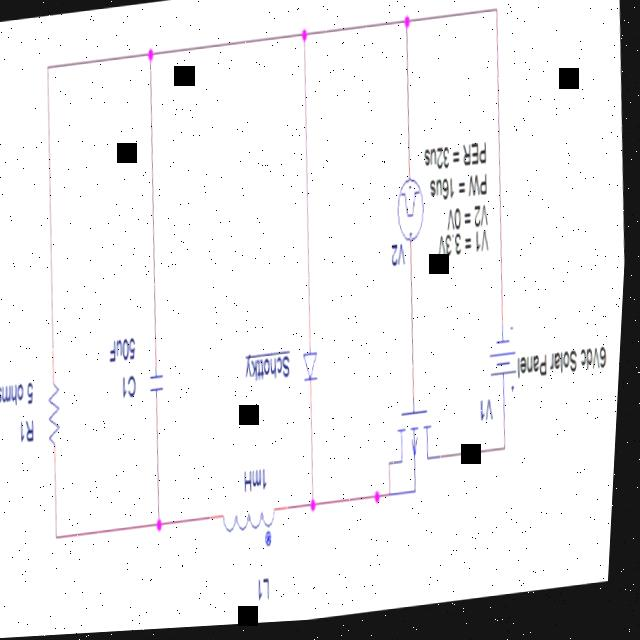capacitor: (144, 356, 176, 417)
diode: (301, 336, 329, 398)
inductor: (215, 486, 292, 560)
mosfet: (380, 396, 457, 522)
node: (397, 10, 417, 52), (156, 507, 174, 545), (311, 492, 329, 527), (297, 25, 313, 60), (374, 485, 390, 517), (144, 42, 157, 80)
resistor: (40, 350, 79, 467)
source: (483, 308, 532, 416), (386, 160, 435, 264)
